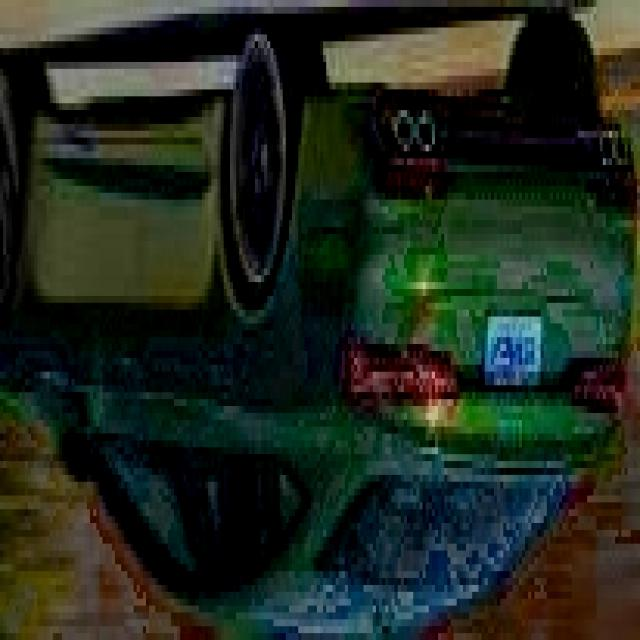green: (6, 0, 640, 633)
